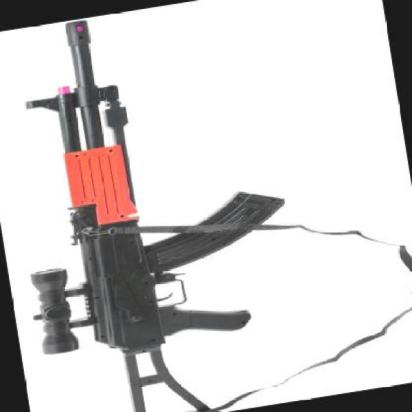Gun: (0, 0, 319, 412)
